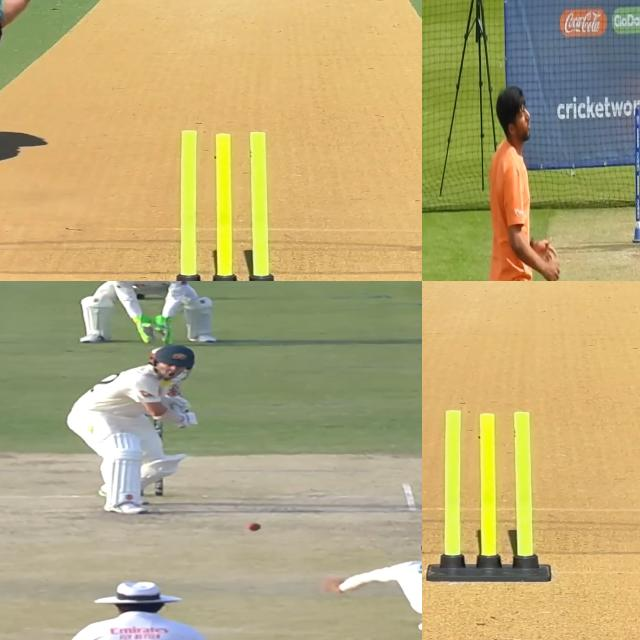Cricket ball: (245, 522, 262, 532)
Stumps: (424, 408, 554, 583), (633, 101, 640, 243)
